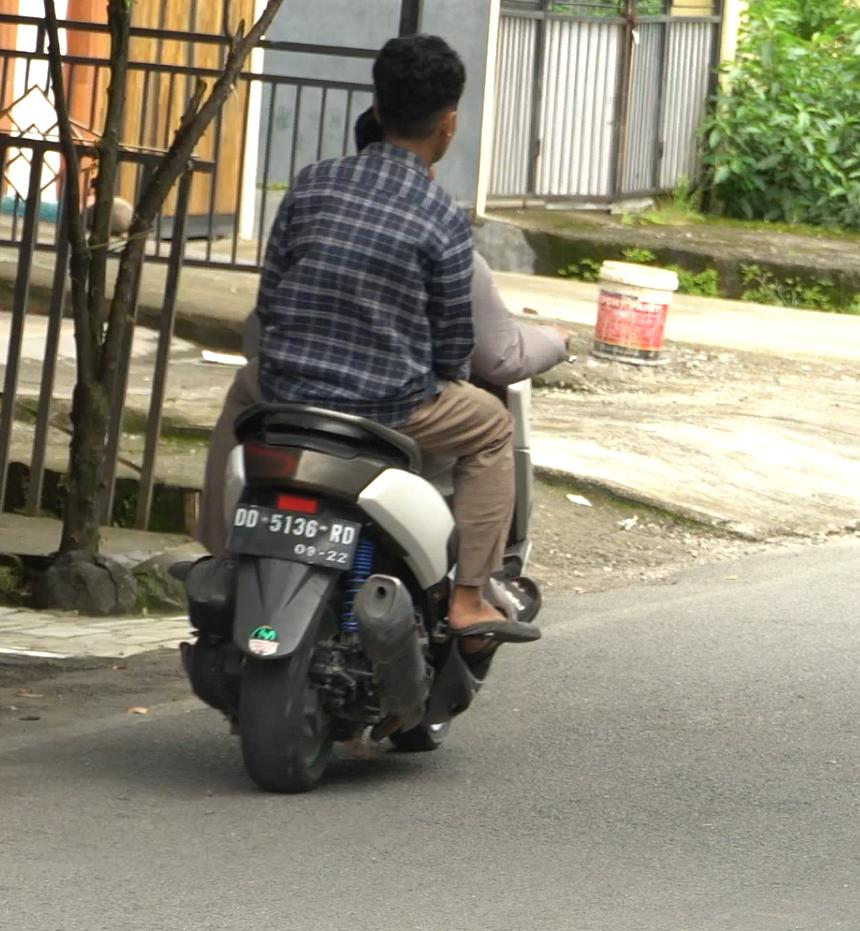number-plate: (228, 501, 362, 572)
